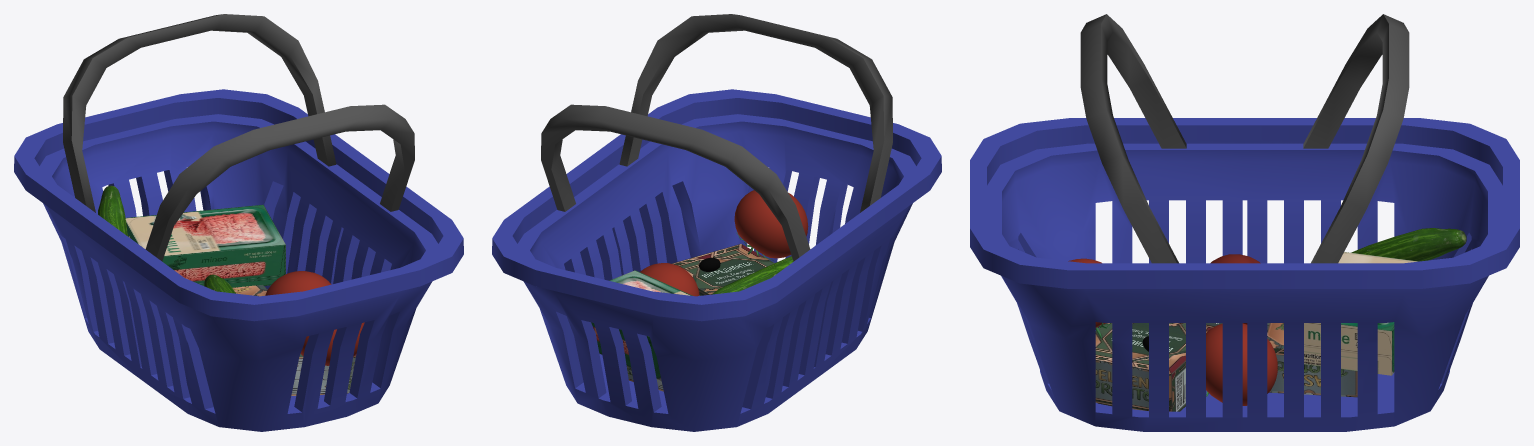
File: products.glb
3 renders of one model, left to right at view 1: azimuth 30°, elevation 25°; view 2: azimuth 150°, elevation 25°; view 3: azimuth 270°, elevation 25°, orthographic. The views are drawn at different scales.
Visible parts, largest first — view 1: Cube.001, Cube.004, tomato.005, Cucumber.003, Cube.005; view 2: Cube.001, tomato.006, Cube.005, Cube.004, tomato.005, Cucumber.002; view 3: Cube.001, Cube.005, Cube.004, Cucumber.003, tomato.005, Cube.007.
Boxes of the visible parts, bbox=[...] form: Cube.001: bbox=[14, 14, 463, 431]; Cube.004: bbox=[125, 204, 285, 287]; tomato.005: bbox=[265, 271, 331, 295]; Cucumber.003: bbox=[98, 185, 127, 236]; Cube.005: bbox=[291, 354, 356, 395]; Cube.001: bbox=[492, 14, 941, 431]; tomato.006: bbox=[734, 190, 808, 260]; Cube.005: bbox=[671, 244, 774, 295]; Cube.004: bbox=[591, 270, 692, 380]; tomato.005: bbox=[640, 263, 699, 296]; Cucumber.002: bbox=[711, 256, 793, 294]; Cube.001: bbox=[970, 14, 1519, 431]; Cube.005: bbox=[1095, 323, 1222, 411]; Cube.004: bbox=[1304, 252, 1418, 375]; Cucumber.003: bbox=[1351, 228, 1466, 261]; tomato.005: bbox=[1206, 323, 1277, 405]; Cube.007: bbox=[1267, 323, 1357, 397].
Bounding box in the file's own units: 2.86 × 2.87 × 4.37.
Materials: 11 (5 with a texture image).
